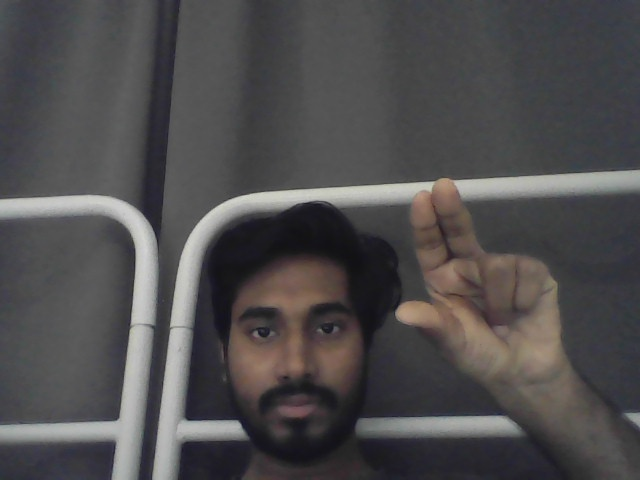no: (395, 177, 561, 389)
